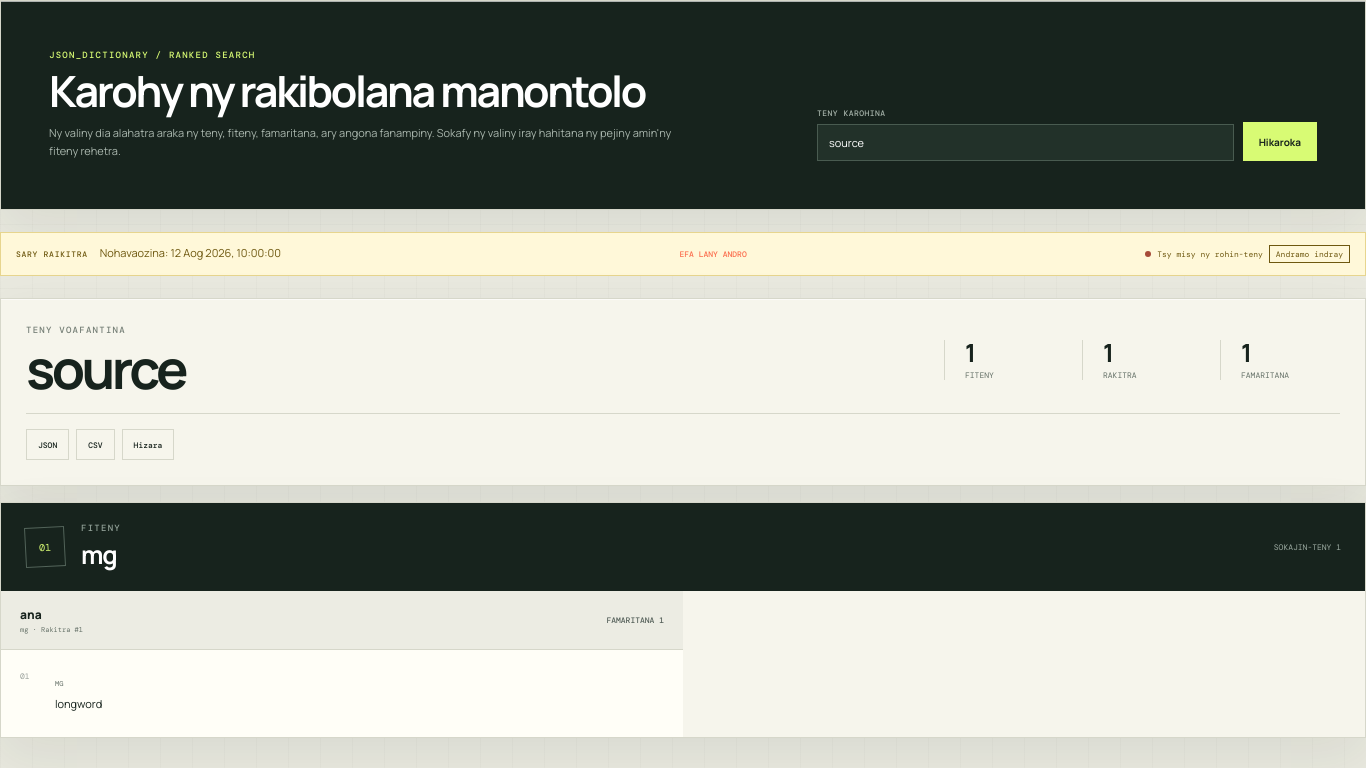
Test: LexiconWorkspace › reports unavailable word links and retries without blocking definitions
This screenshot has width=1366, height=768.
Expected: the text "Tsy misy ny rohin-teny" is shown, [1157,249,1263,259]
Expected: the text "longword" is shown, [55,696,102,711]
Click the button "Andramo indray". click: (1309, 254)
box: [1269,245,1350,263]
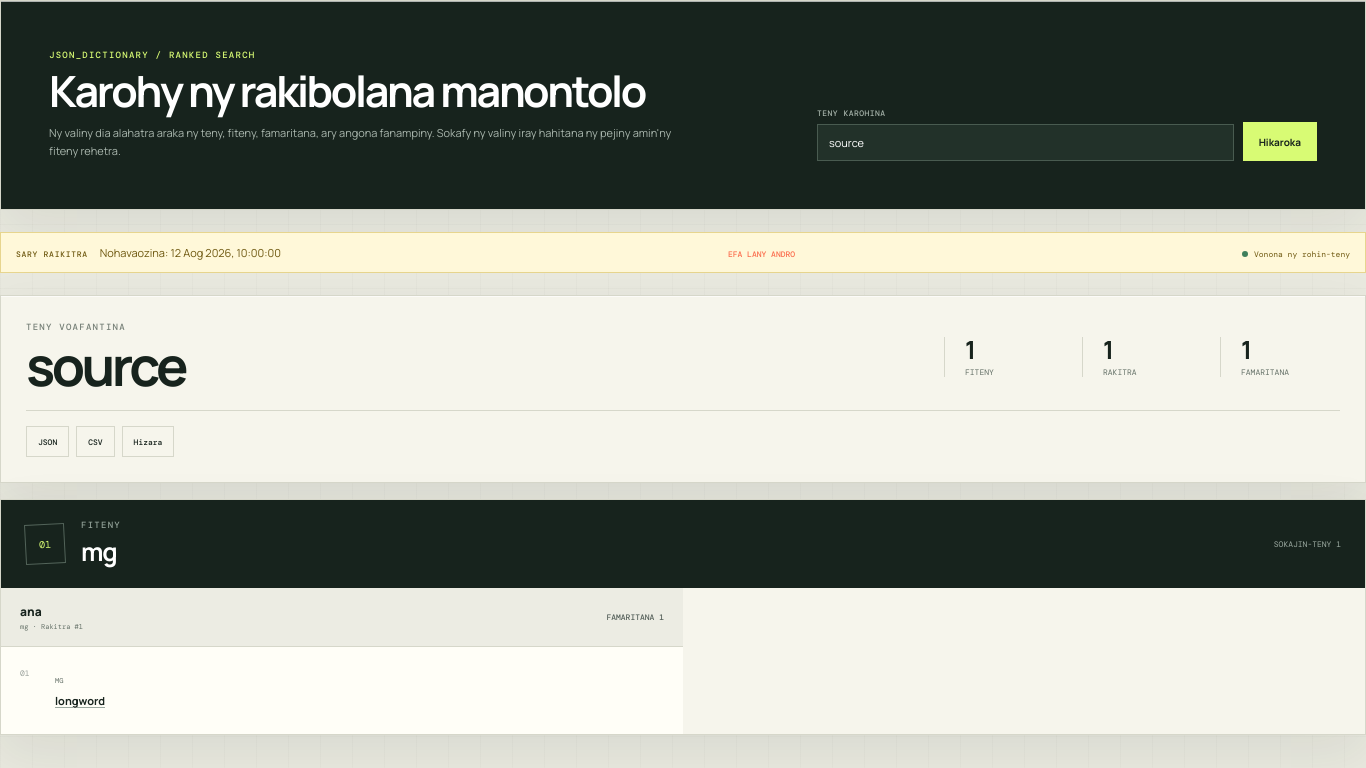
Expected: the link "longword" is shown, [55,693,105,708]
Expected: the text "Vonona ny rohin-teny" is shown, [1242,249,1350,259]
